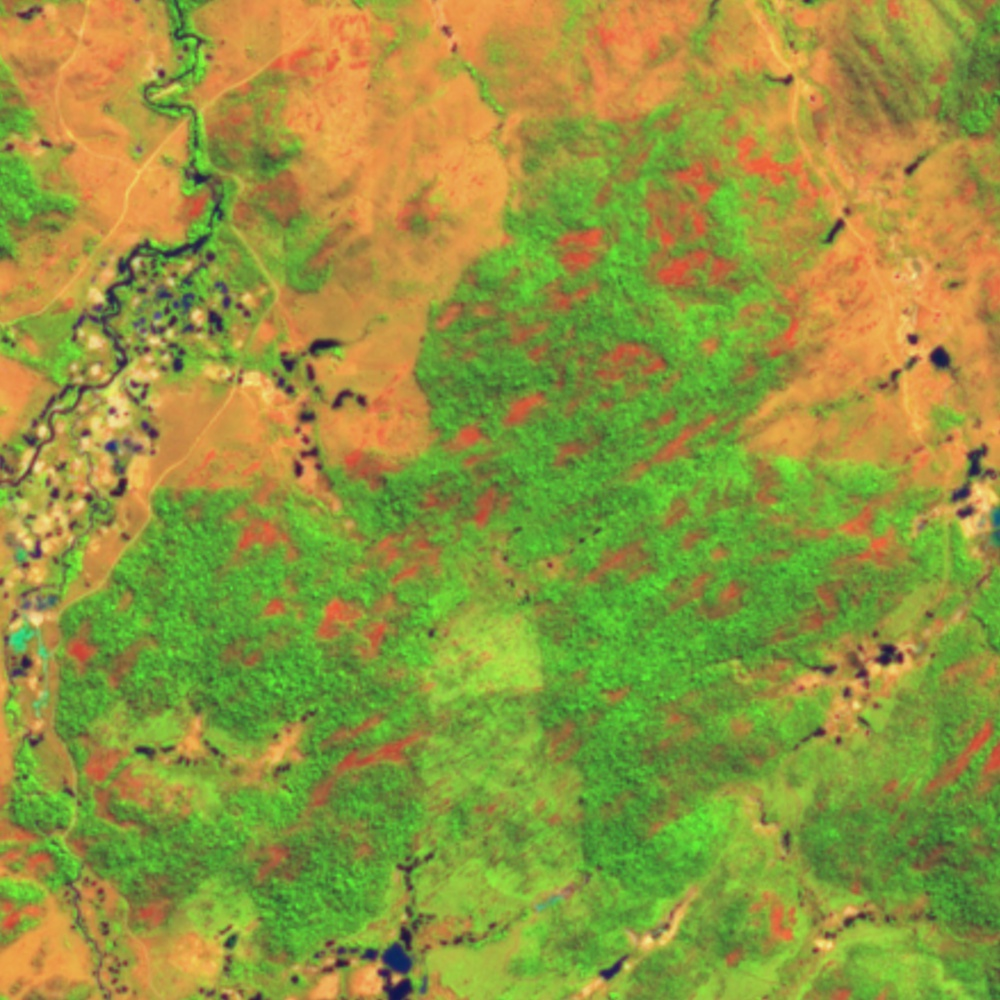legal: (1, 210, 255, 754), (289, 846, 575, 1000), (773, 608, 945, 757), (423, 516, 606, 642), (118, 701, 326, 788), (131, 20, 236, 192), (256, 334, 370, 487), (575, 886, 698, 1000), (895, 429, 1000, 557), (819, 330, 961, 419), (790, 886, 949, 955), (62, 863, 142, 1000), (888, 258, 961, 331), (199, 929, 274, 1000), (748, 791, 797, 870), (760, 59, 821, 111), (1, 128, 74, 162), (822, 200, 863, 247), (705, 1, 823, 17), (905, 143, 952, 176), (437, 15, 469, 58), (54, 778, 94, 809), (1, 1, 45, 21)
